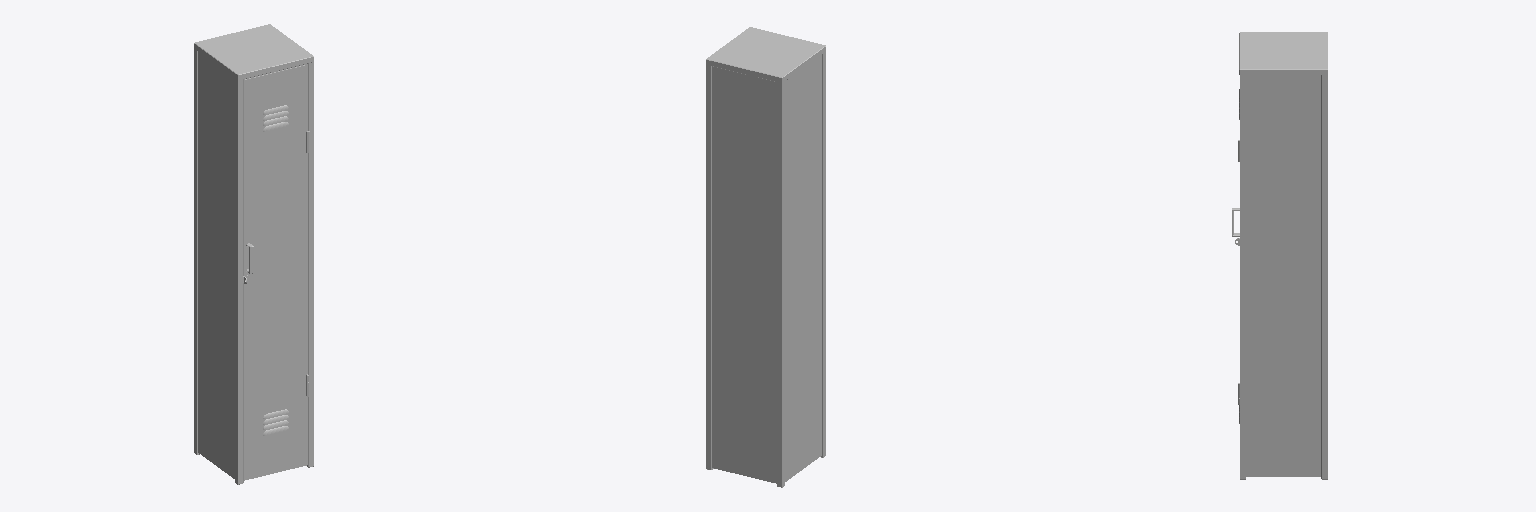
File: locker_LoD_1.obj
The picture shows the model from 3 angles: view 1: azimuth 30°, elevation 25°; view 2: azimuth 150°, elevation 25°; view 3: azimuth 270°, elevation 25°; orthographic projection.
Parts seen in each view (by area): view 1: SM_LockerClosed_Mesh.005; view 2: SM_LockerClosed_Mesh.005; view 3: SM_LockerClosed_Mesh.005.
Boxes of the visible parts, x1=… form: SM_LockerClosed_Mesh.005: x1=194, y1=24, x2=313, y2=484; SM_LockerClosed_Mesh.005: x1=706, y1=27, x2=825, y2=487; SM_LockerClosed_Mesh.005: x1=1232, y1=32, x2=1327, y2=479.
Size of the model in its own units: 0.353 by 1.8 by 0.3837.